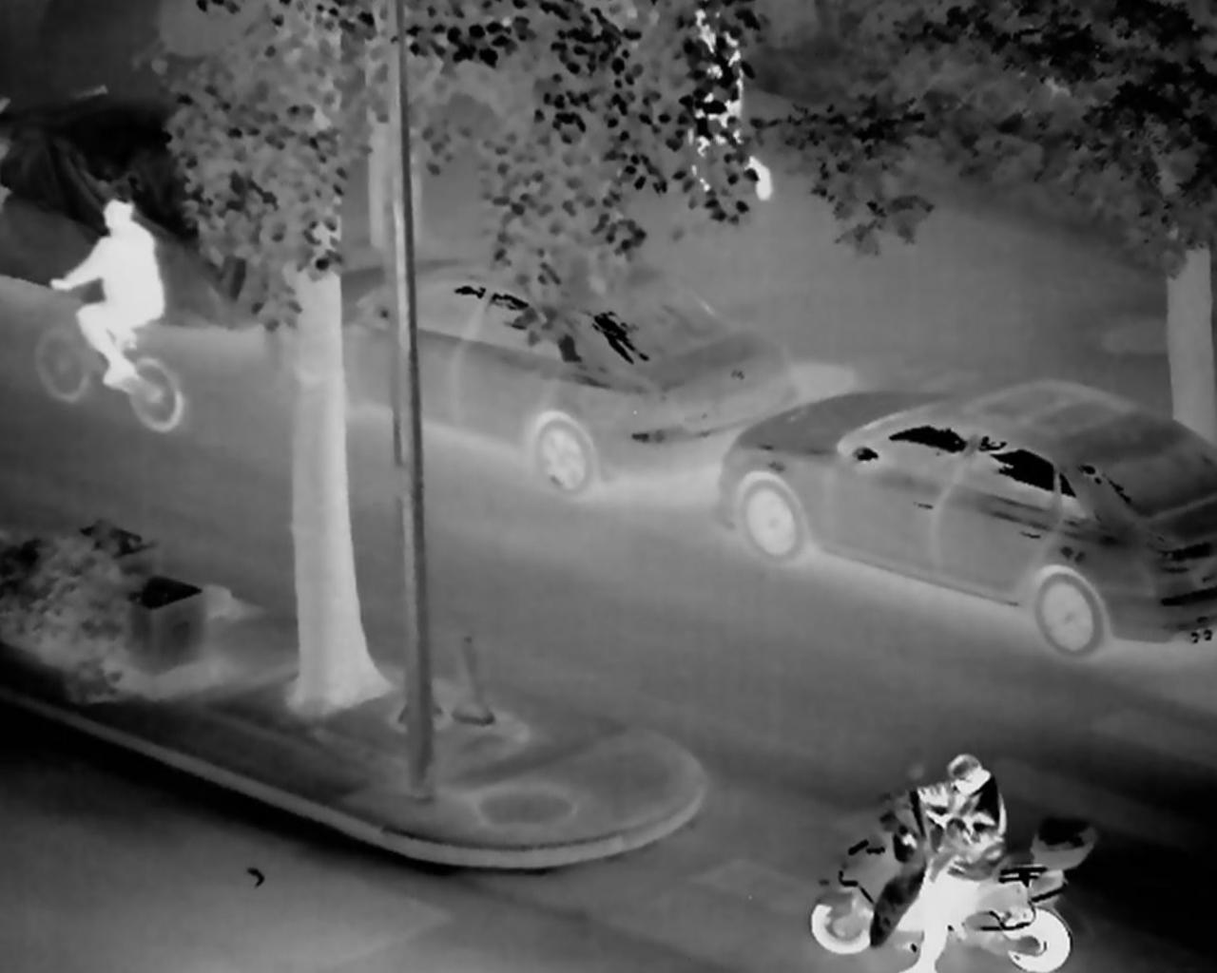person: (48, 193, 184, 421), (888, 747, 1020, 973), (672, 12, 781, 208)
